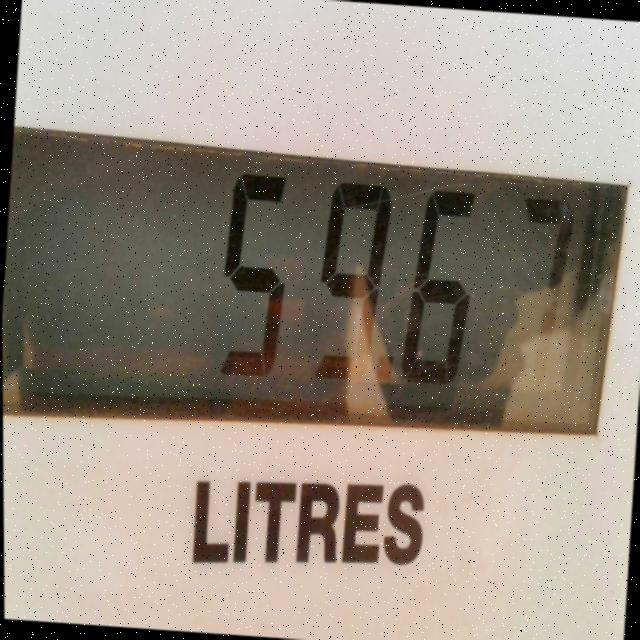.: (363, 335, 403, 411)
4: (194, 164, 310, 405)
6: (394, 175, 492, 404)
7: (490, 178, 578, 384)
9: (299, 159, 403, 403)
